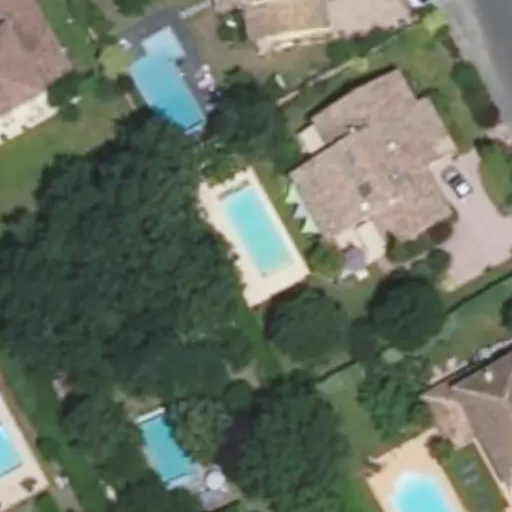pool: (226, 188, 294, 276), (130, 55, 202, 134), (136, 414, 188, 483), (394, 475, 449, 512)
